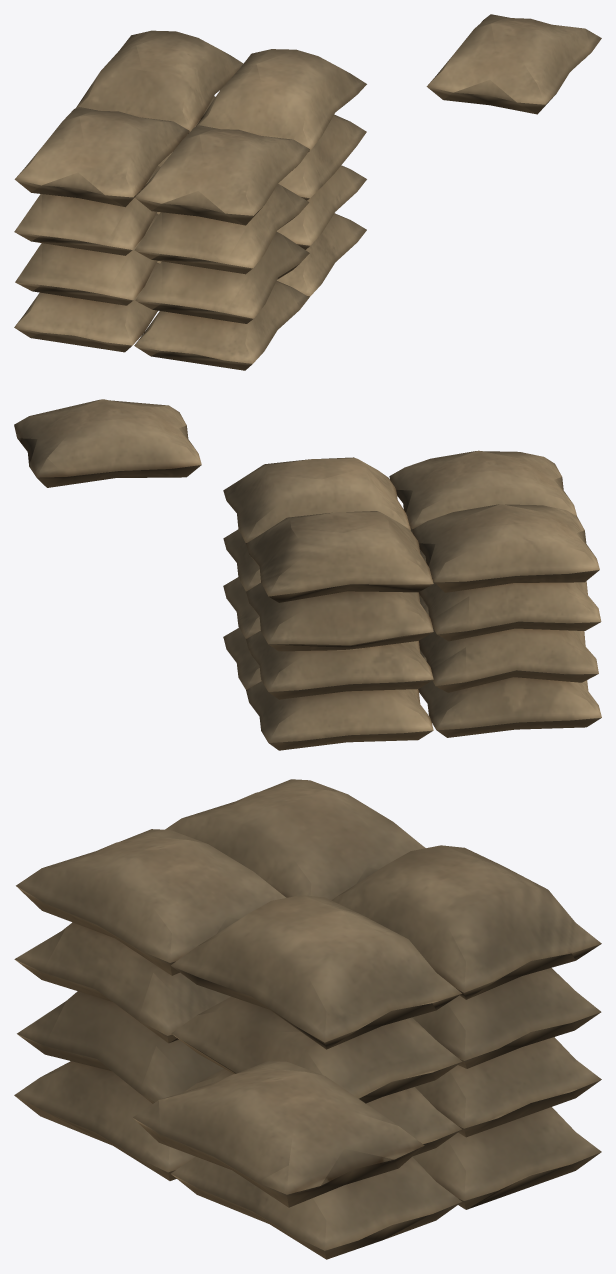
Rendered from wheat bundel.fbx.
3 views of the same model, one above another, from view 1: azimuth 30°, elevation 25°; view 2: azimuth 150°, elevation 25°; view 3: azimuth 270°, elevation 25° (orthographic). The views are drawn at different scales.
Parts seen in each view (by area): view 1: bundle, single; view 2: bundle, single; view 3: bundle, single.
Boxes of the visible parts, left/top/right/bottom form: bundle: left=14, top=30, right=366, bottom=370; single: left=426, top=14, right=601, bottom=114; bundle: left=223, top=450, right=601, bottom=750; single: left=14, top=399, right=201, bottom=487; bundle: left=14, top=779, right=601, bottom=1259; single: left=133, top=1061, right=424, bottom=1207.
Size of the model in its own units: 8.96 by 2.93 by 5.45.
1 material, 1 textured.
